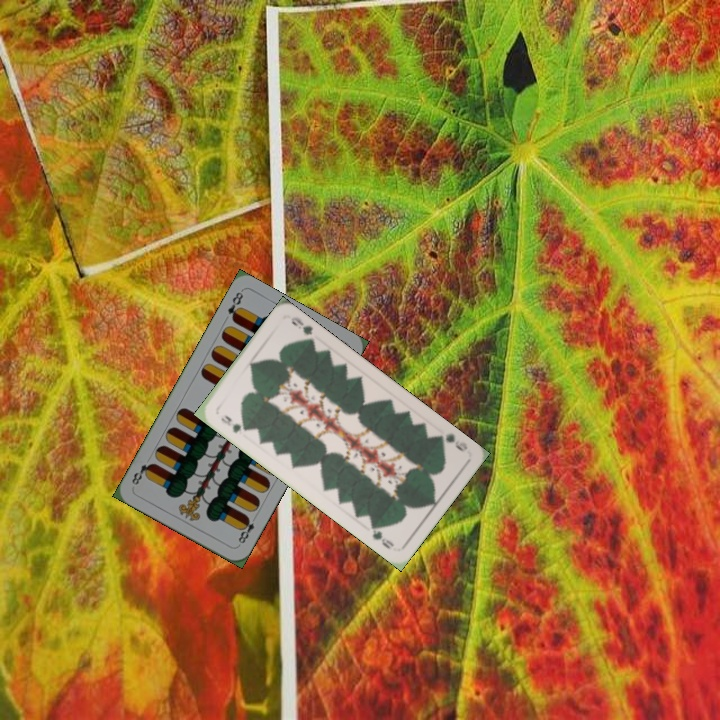E8: (234, 511, 260, 548), (224, 288, 246, 324)
G9: (432, 429, 470, 454), (217, 410, 250, 437)
